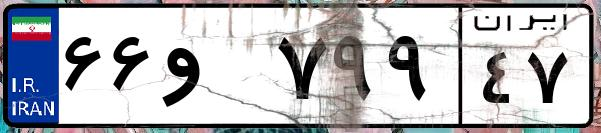4: (475, 38, 525, 113)
6: (57, 26, 110, 100), (110, 28, 158, 98)
7: (270, 28, 330, 110), (525, 38, 570, 115)
9: (385, 28, 445, 110), (330, 28, 385, 110)
و: (158, 20, 270, 120)
